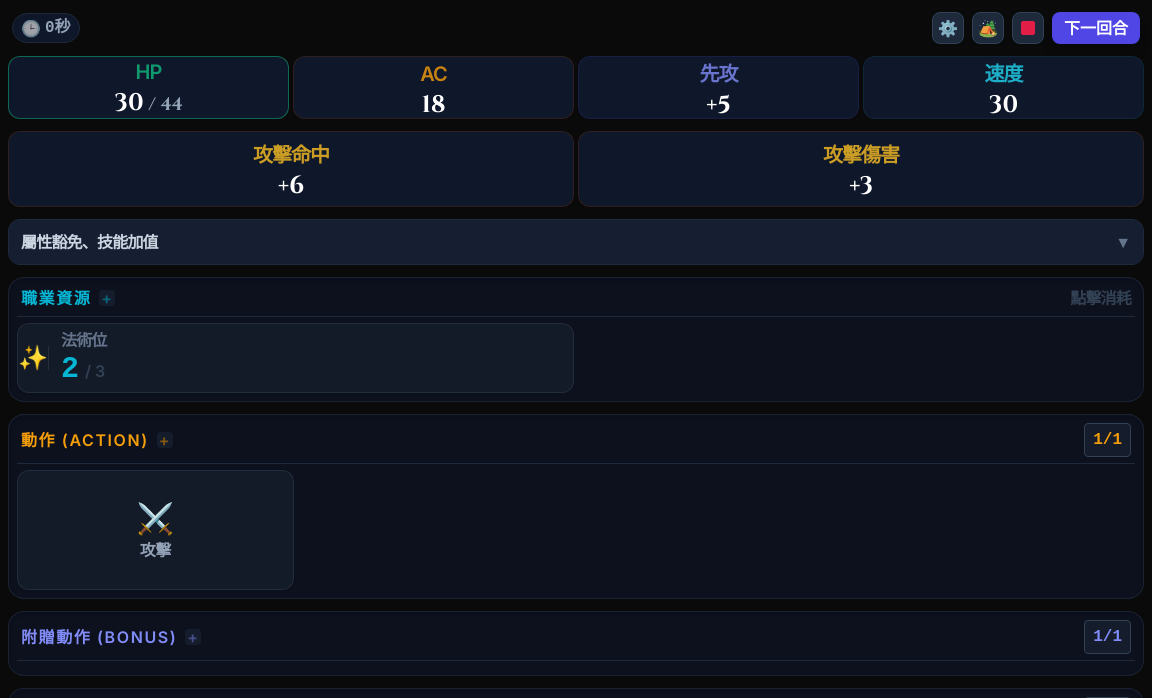
it: CombatView - 加值表功能測試 › 預設應為收合狀態，點擊標題後展開
Click the text "屬性豁免、技能加值".
click(89, 242)  # box [21,230,158,254]
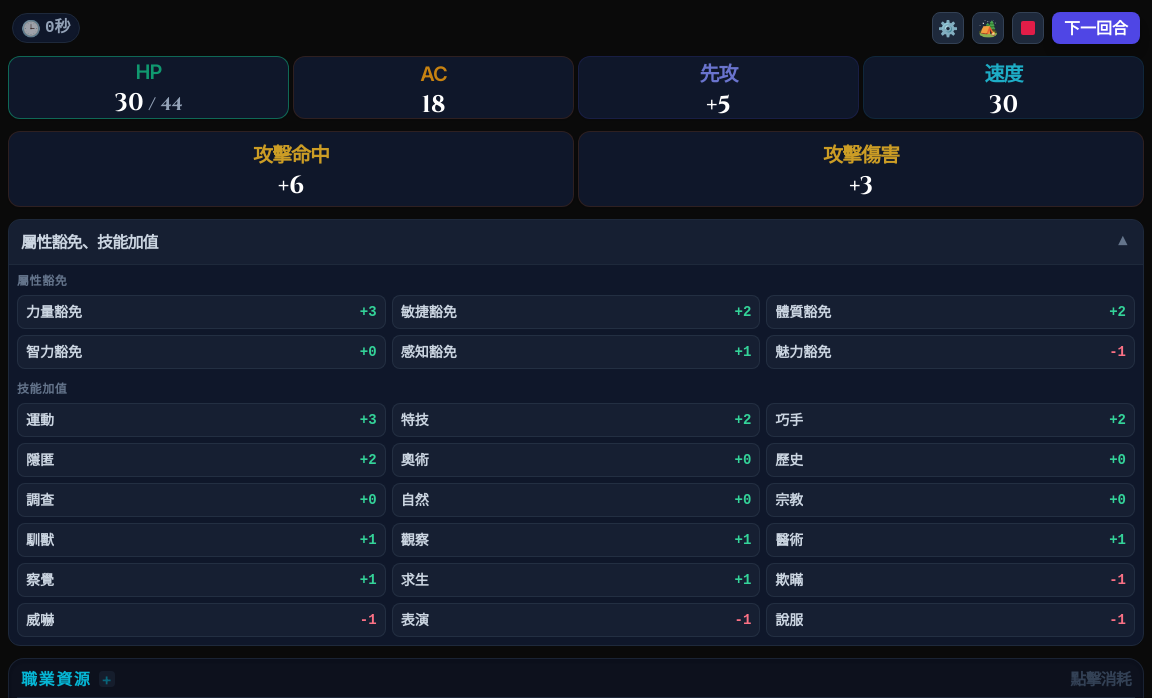
expect the text "力量豁免" is shown: met, box [26,302,82,322]
